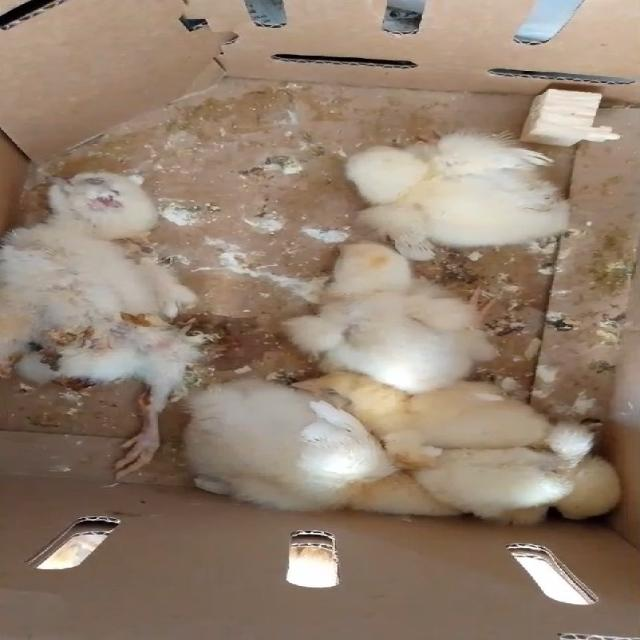dead: (0, 141, 181, 459), (164, 239, 475, 375), (318, 108, 576, 264), (150, 377, 382, 525), (292, 344, 562, 460)
